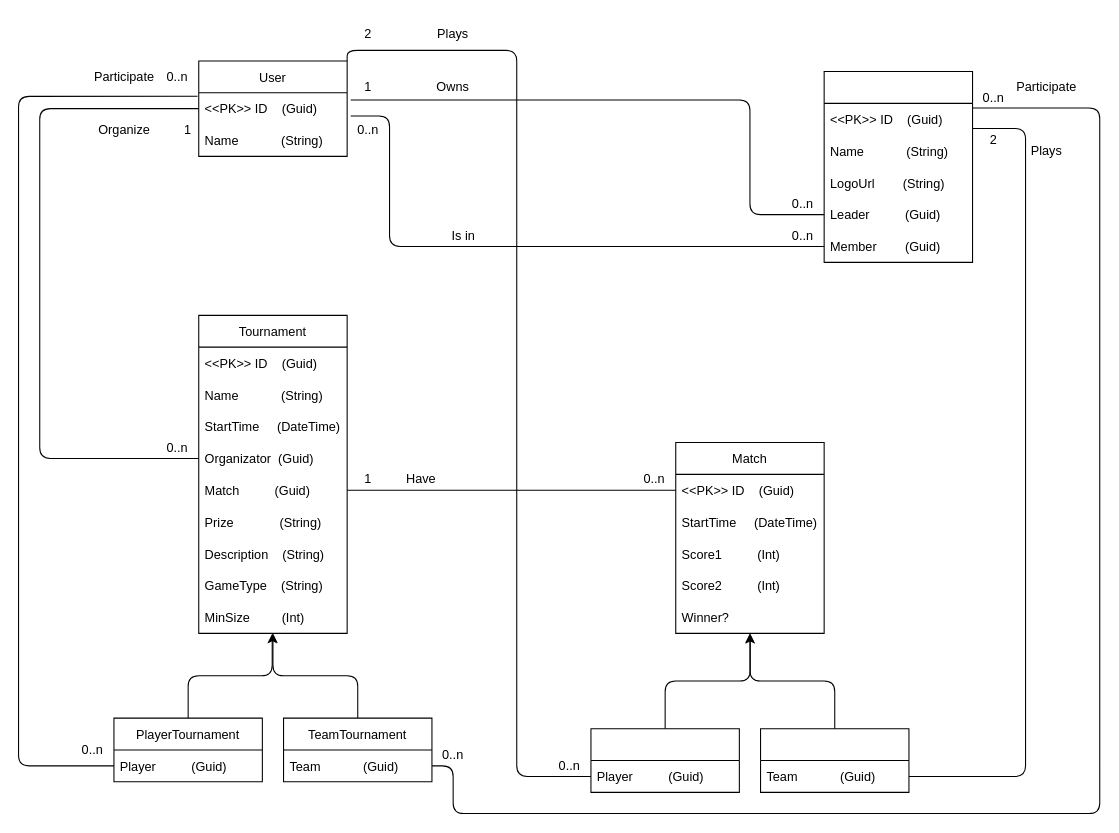
This 1119x833 diagram has some shape labels left out. The box of each missing label's shape, as (x1, y1, x2, y2) in pixels:
PlayerMatch: (590, 728, 739, 792)
Team: (823, 70, 973, 262)
TeamMatch: (759, 728, 909, 792)
